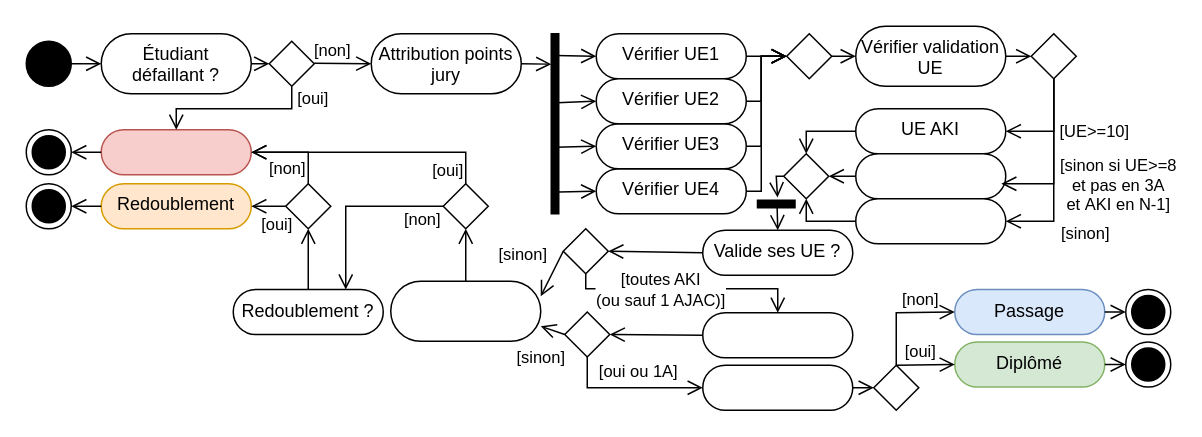
Image size: 1202x437. Some labels were removed from this diagram. Here are the shapes that lost their labels. From the top down, the centre of each, then its label:
At (175,151): "Exclusion".
At (930,175): "UE AJAC".
At (930,220): "UE NAKI".
At (465,310): "A déjà redoublé l'année ?".
At (777,334): "A fait un stage ?".
At (777,387): "Est en 3A ?".
